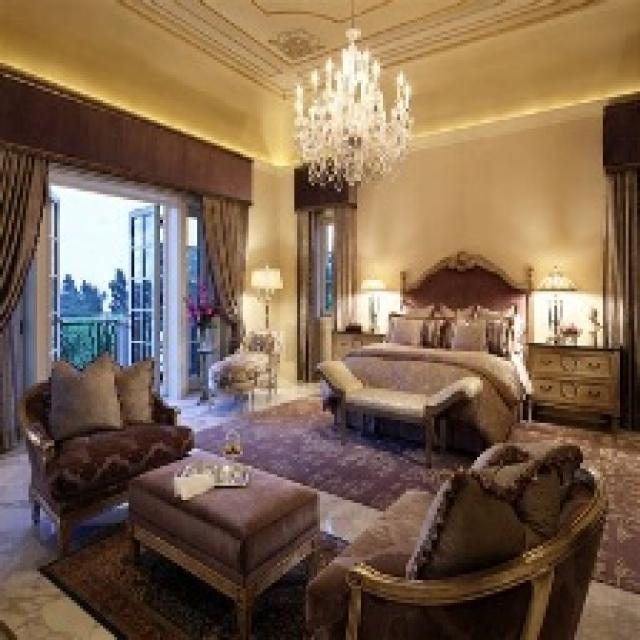Bed: (314, 249, 532, 454)
